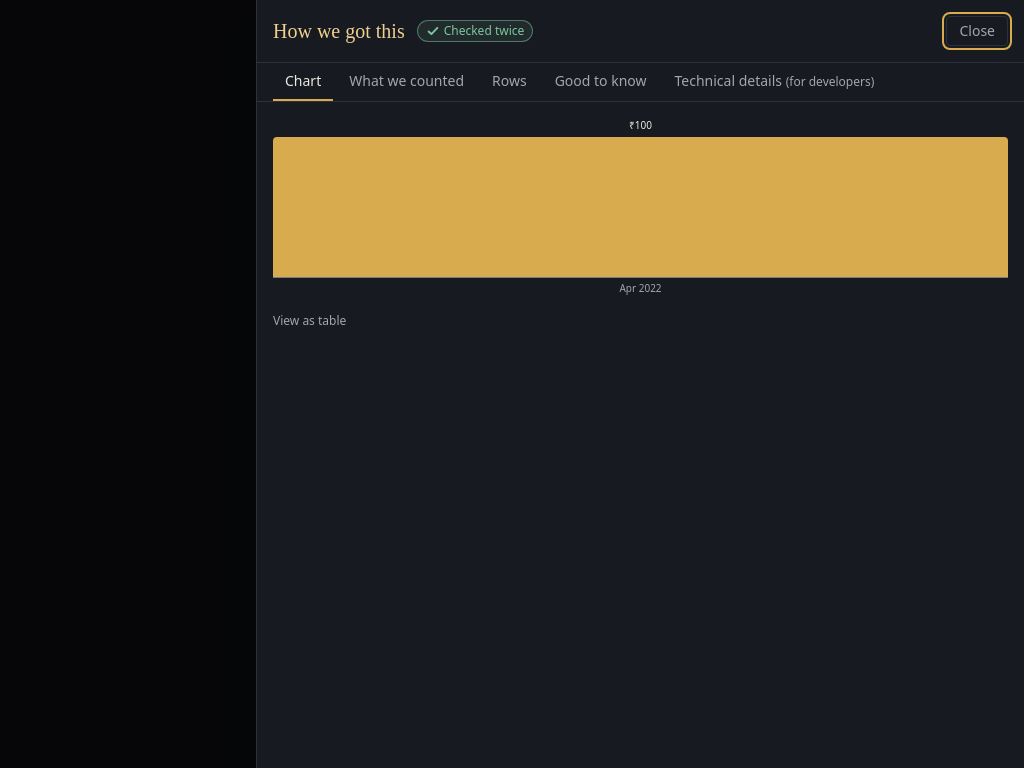
Test: Plain language › the evidence drawer keeps technical words inside Technical details only
What coordinates should you click on to do the following:
click the tab "Chart"
I would click on:
 (303, 82)
Its box is [273,63,333,101].
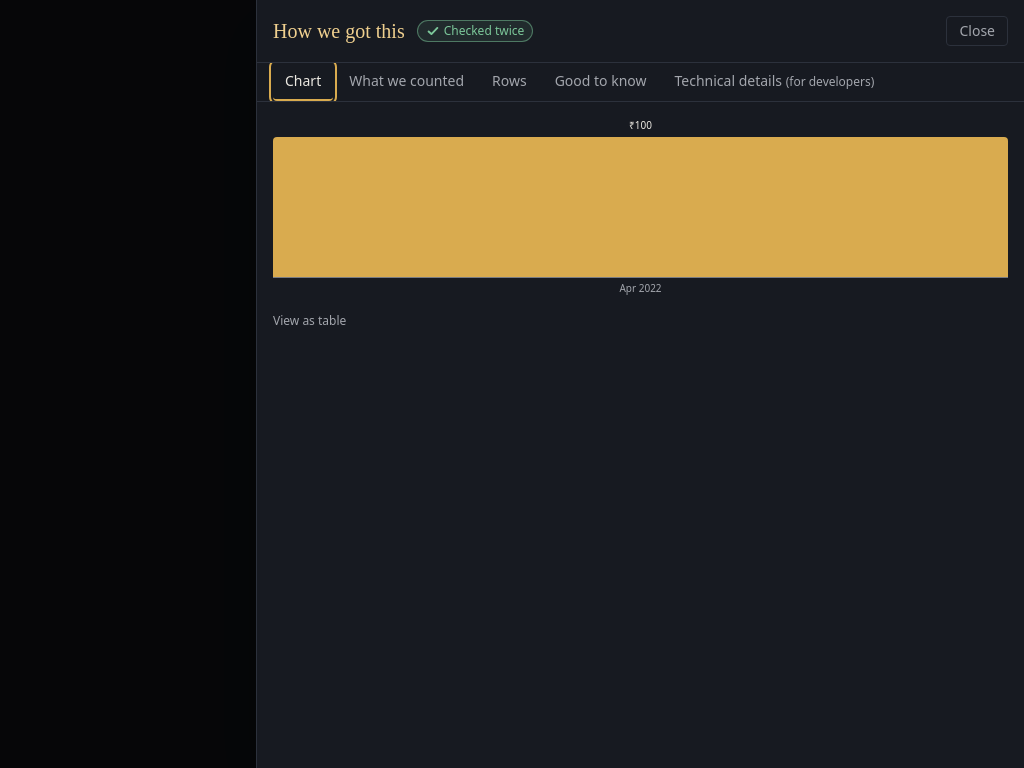
What coordinates should you click on to do the following:
click the tab "What we counted"
I would click on:
 (407, 82)
Its box is [337,63,476,101].
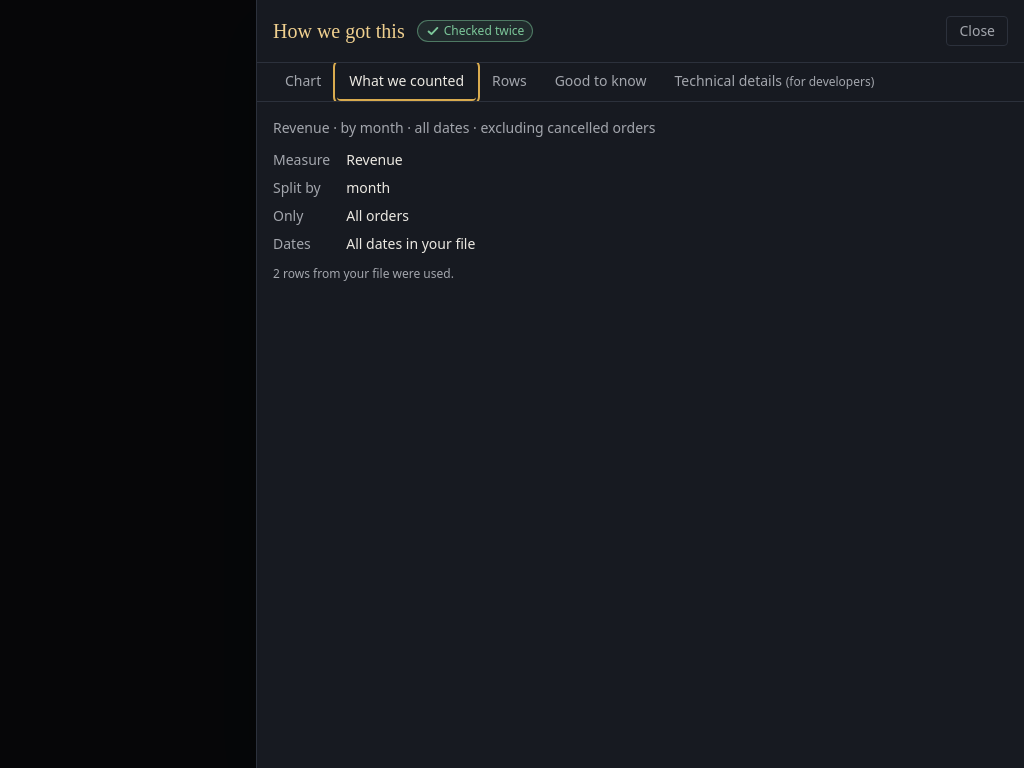
What coordinates should you click on to do the following:
click the tab "Rows"
I would click on:
 (509, 82)
Its box is [480,63,539,101].
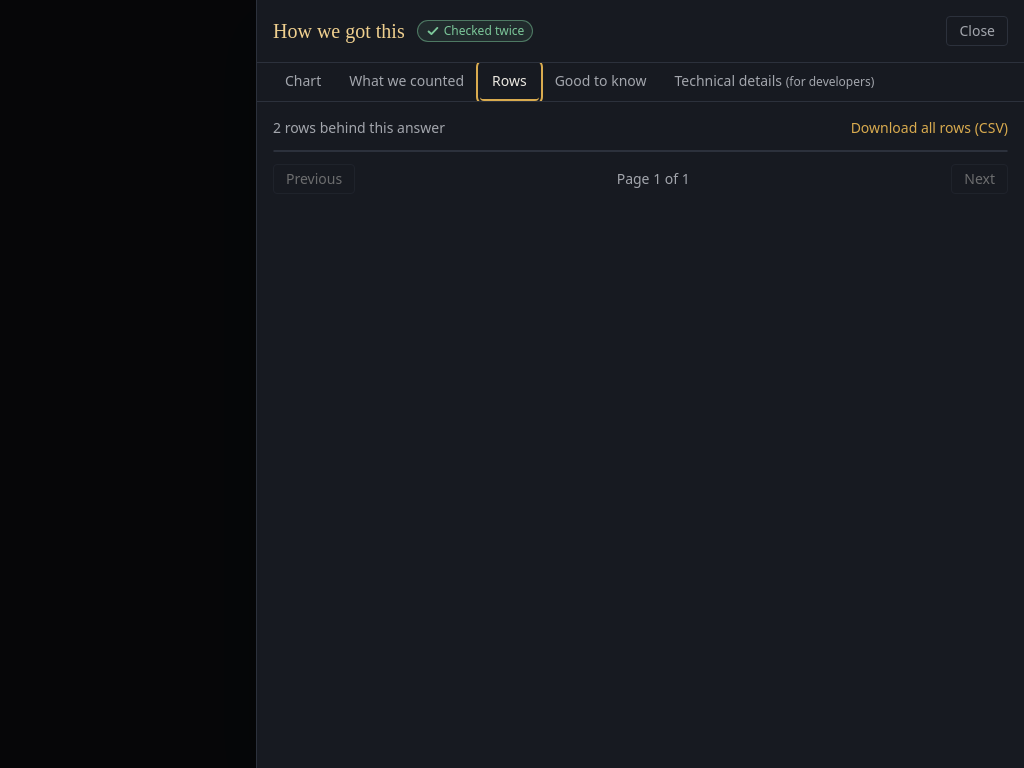
What coordinates should you click on to do the following:
click the tab "Good to know"
I would click on:
 (601, 82)
Its box is [543,63,658,101].
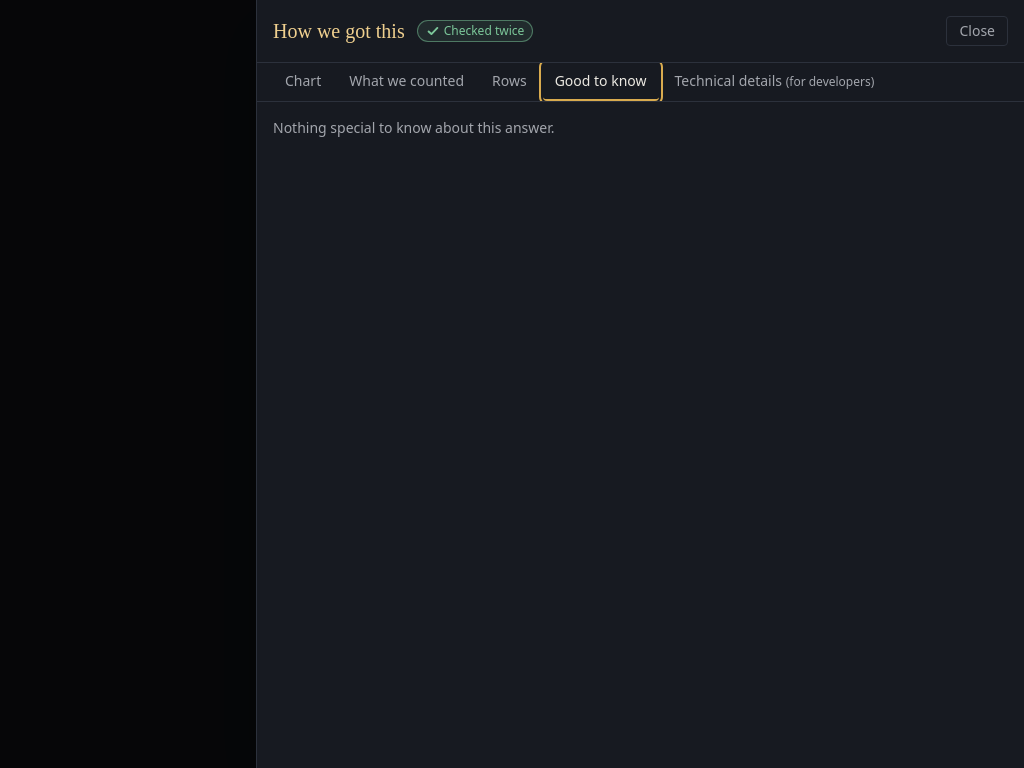
What coordinates should you click on to do the following:
click the tab "Technical details (for developers)"
I would click on:
 (774, 82)
Its box is [662,63,886,101].
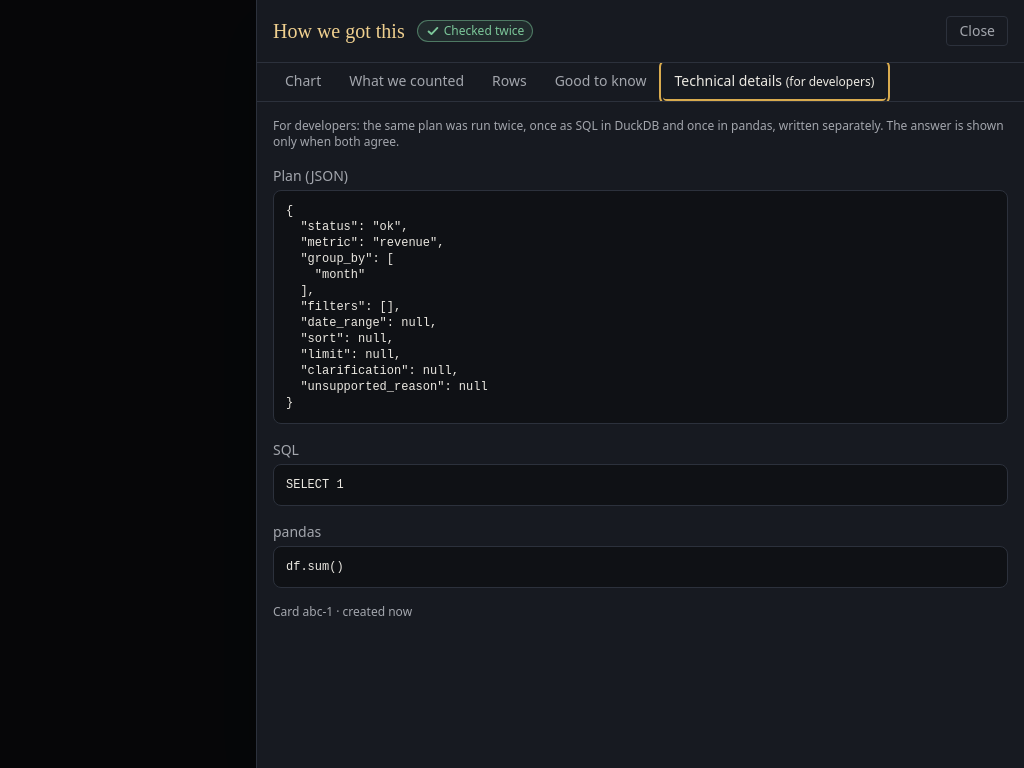
Now the panel shows "SQL", box [273,440,299,459]
